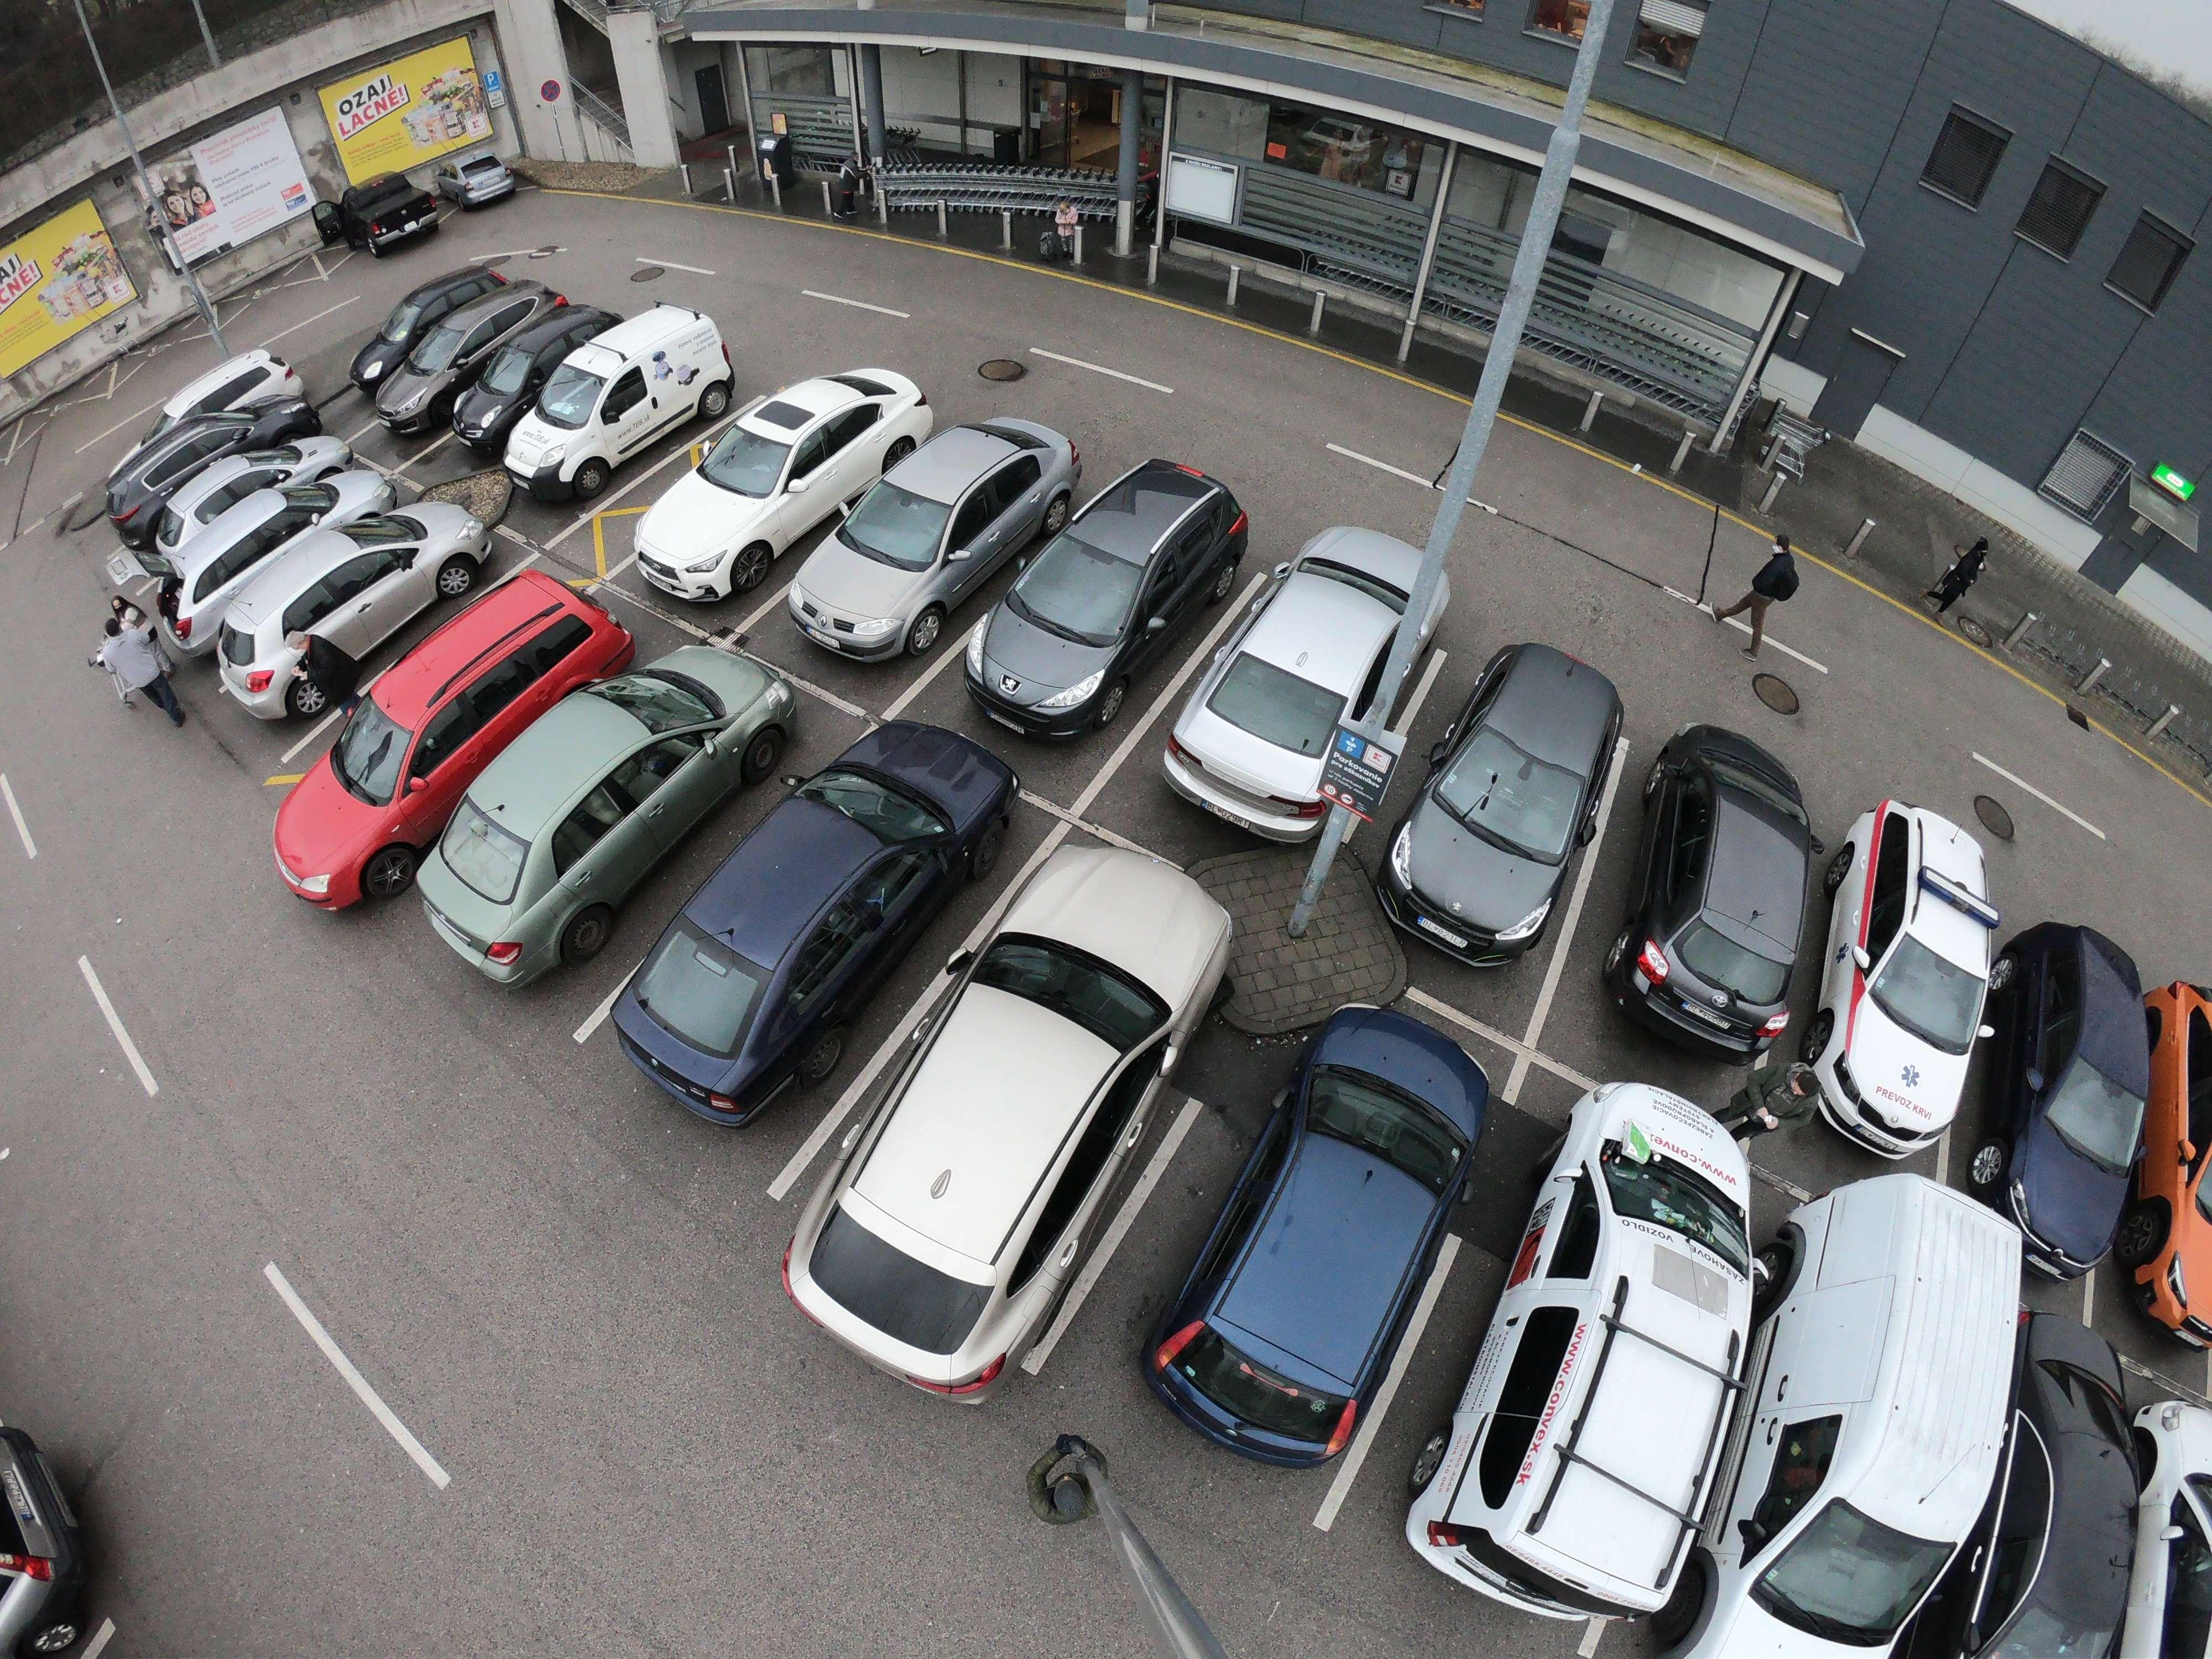empty: (824, 887, 1211, 1396), (1451, 1070, 1777, 1647), (1163, 990, 1487, 1486), (1731, 1166, 2038, 1659), (632, 749, 975, 1124), (420, 666, 756, 992), (1162, 533, 1428, 849), (1989, 911, 2203, 1302), (1383, 640, 1637, 960), (329, 570, 606, 859), (1806, 789, 2010, 1182), (974, 465, 1237, 746), (1616, 730, 1824, 1060), (791, 429, 1057, 671), (202, 505, 470, 709), (644, 385, 897, 598), (503, 312, 716, 507), (145, 453, 341, 627), (383, 274, 552, 441), (455, 291, 580, 436)
